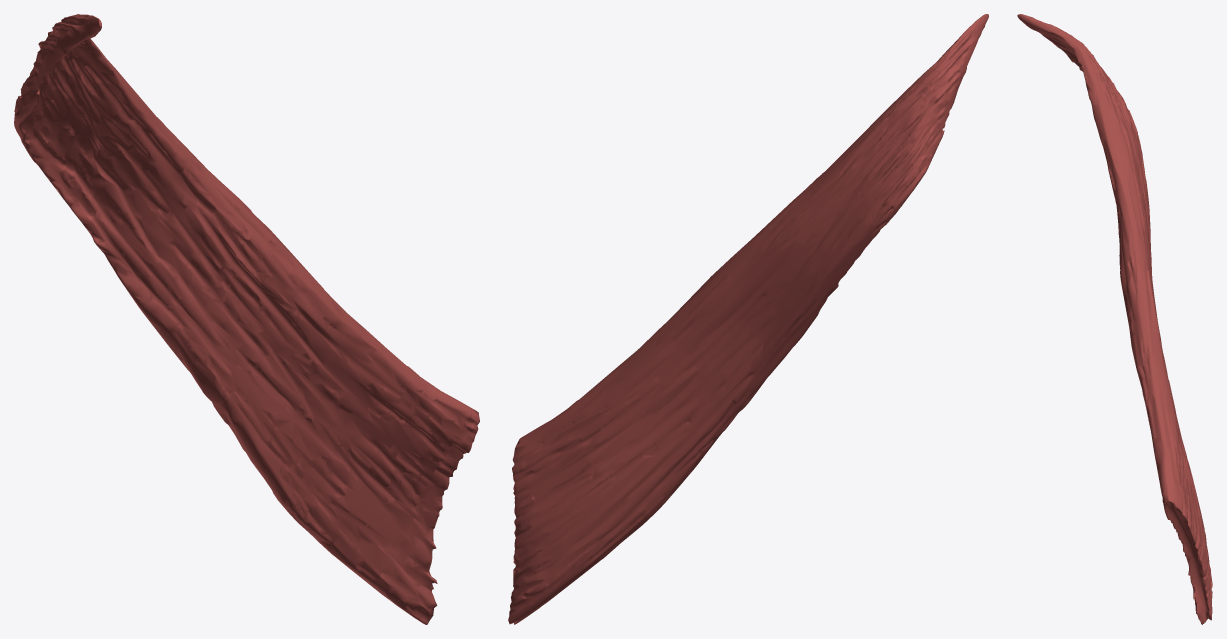
The model's file is FMA13384.glb.
3 views of the same model, side by side, from view 1: azimuth 30°, elevation 25°; view 2: azimuth 150°, elevation 25°; view 3: azimuth 270°, elevation 25° (orthographic). The views are drawn at different scales.
Parts seen in each view (by area): view 1: FMA13384; view 2: FMA13384; view 3: FMA13384.
Boxes of the visible parts, box(x1,y1,x2,y2) form: FMA13384: box(14, 14, 479, 624); FMA13384: box(508, 14, 988, 624); FMA13384: box(1017, 14, 1212, 624).
Bounding box in the file's own units: 0.0624 × 0.0976 × 0.0363.
